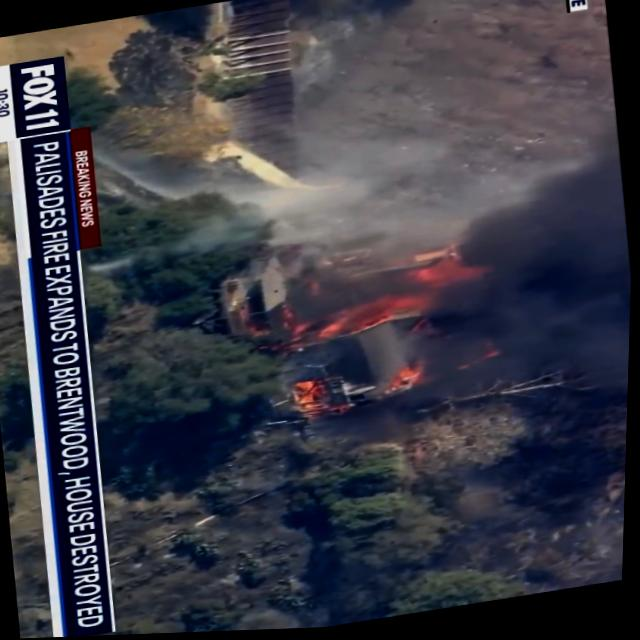no_helmet: (388, 173, 636, 410)
